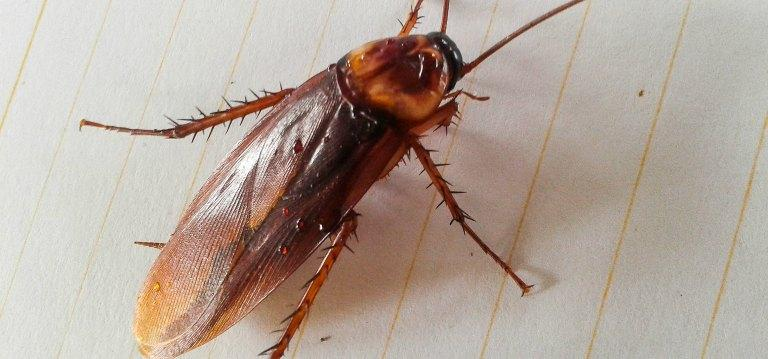cockroach: (130, 26, 470, 359)
